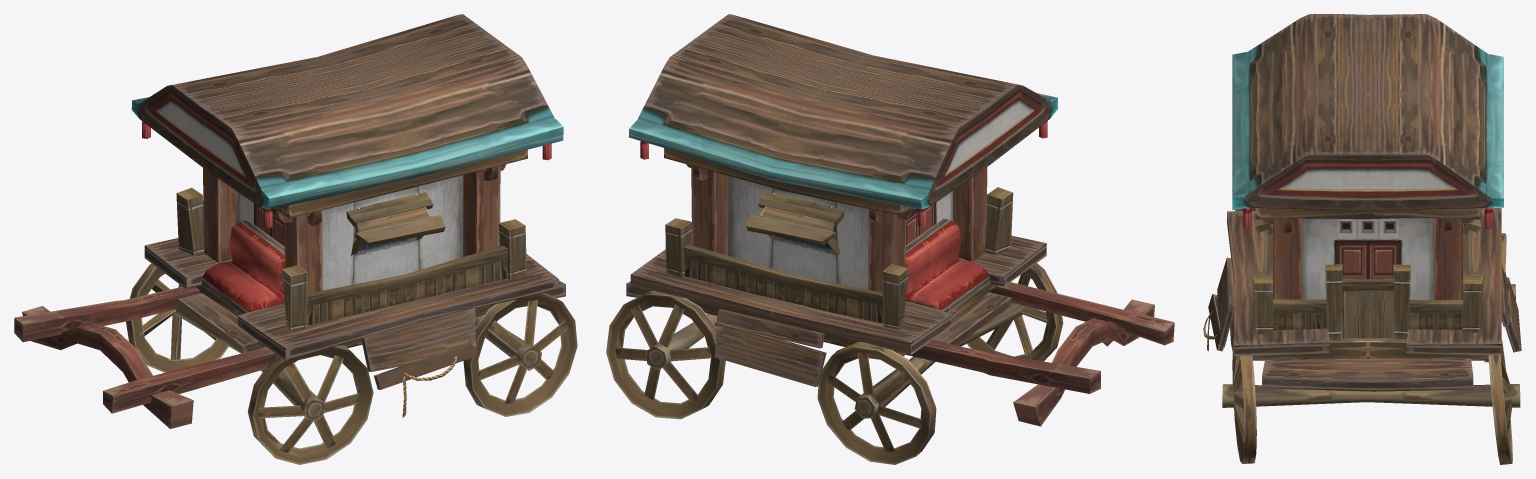
Rendered from handan_field_o_w01.fbx.
3 renders of one model, left to right at view 1: azimuth 30°, elevation 25°; view 2: azimuth 150°, elevation 25°; view 3: azimuth 270°, elevation 25°, orthographic.
Visible parts, largest first — view 1: handan_field_o_w01; view 2: handan_field_o_w01; view 3: handan_field_o_w01.
Boxes of the visible parts, box(x1,y1,x2,y2) form: handan_field_o_w01: box(14, 14, 577, 464); handan_field_o_w01: box(606, 14, 1174, 464); handan_field_o_w01: box(1203, 14, 1521, 464).
Size of the model in its own units: 440 by 296 by 266.
